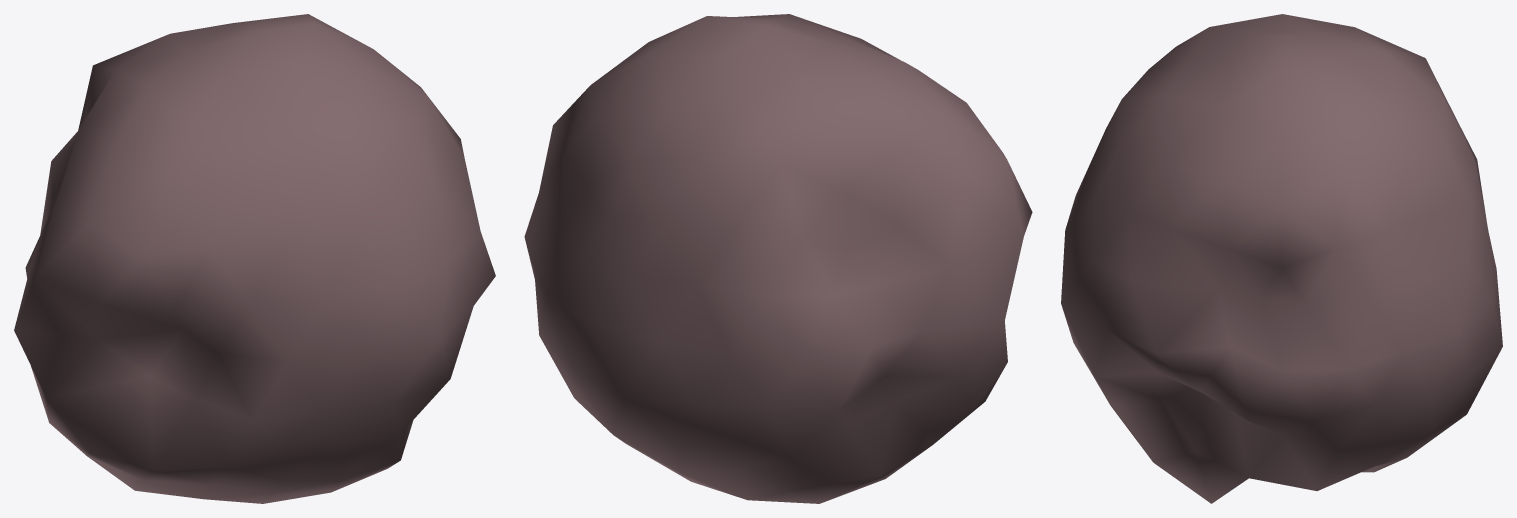
Rendered from asteroid_sml_12.glb.
3 renders of one model, left to right at view 1: azimuth 30°, elevation 25°; view 2: azimuth 150°, elevation 25°; view 3: azimuth 270°, elevation 25°, orthographic. The views are drawn at different scales.
Visible parts, largest first — view 1: asteroid_sml_12; view 2: asteroid_sml_12; view 3: asteroid_sml_12.
Part boxes in pixels (x1=…): asteroid_sml_12: x1=14, y1=14, x2=495, y2=503; asteroid_sml_12: x1=524, y1=14, x2=1032, y2=503; asteroid_sml_12: x1=1061, y1=14, x2=1502, y2=503.
Bounding box in the file's own units: 2.04 × 1.95 × 1.76.
